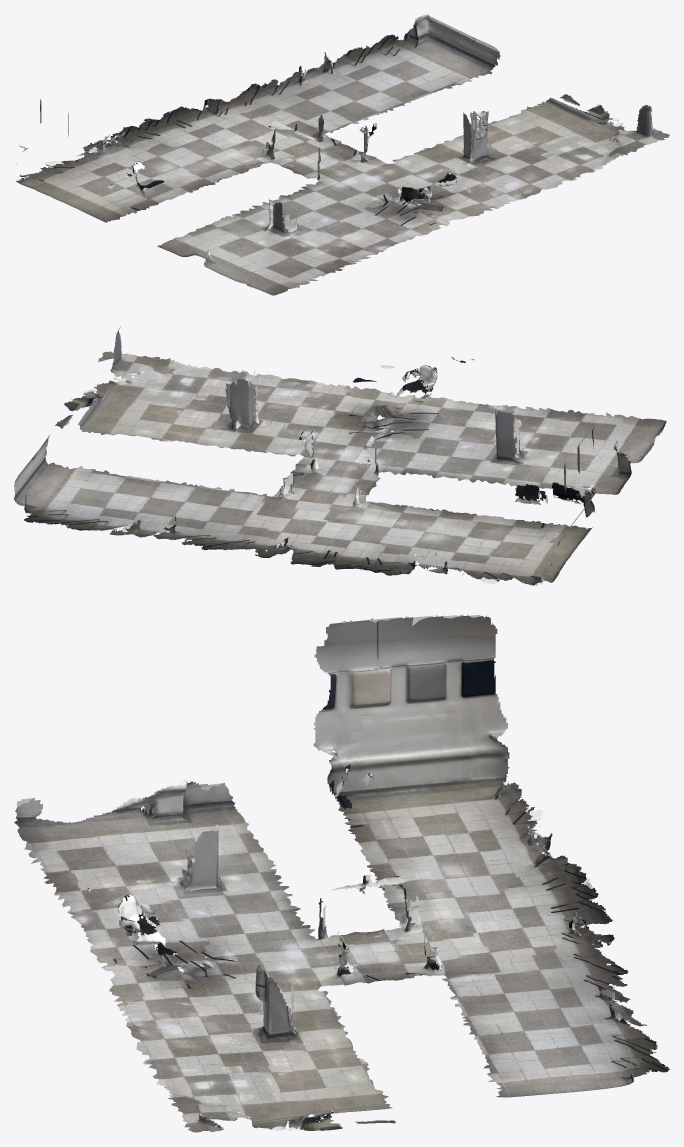
3 views of the same model, one above another, from view 1: azimuth 30°, elevation 25°; view 2: azimuth 150°, elevation 25°; view 3: azimuth 270°, elevation 25° (orthographic). The views are drawn at different scales.
Parts seen in each view (by area): view 1: 4, 16, 1, 17, 3, 13, 0, 11; view 2: 4, 16, 17, 1, 3, 13, 0, 11; view 3: 16, 4, 17, 1, 3, 13, 0, 11.
Part boxes in pixels (x1=…): 4: x1=40, y1=60, x2=569, y2=194; 16: x1=16, y1=80, x2=344, y2=222; 1: x1=249, y1=16, x2=500, y2=234; 17: x1=157, y1=174, x2=455, y2=295; 3: x1=265, y1=111, x2=541, y2=232; 13: x1=463, y1=94, x2=629, y2=196; 0: x1=17, y1=14, x2=653, y2=265; 11: x1=611, y1=105, x2=669, y2=157; 4: x1=79, y1=378, x2=594, y2=574; 16: x1=177, y1=430, x2=597, y2=585; 17: x1=354, y1=378, x2=666, y2=494; 1: x1=14, y1=411, x2=496, y2=537; 3: x1=238, y1=359, x2=496, y2=501; 13: x1=55, y1=358, x2=306, y2=431; 0: x1=17, y1=357, x2=628, y2=585; 11: x1=98, y1=326, x2=178, y2=381; 16: x1=313, y1=646, x2=628, y2=994; 4: x1=227, y1=615, x2=646, y2=1110; 17: x1=14, y1=780, x2=281, y2=986; 1: x1=170, y1=881, x2=669, y2=1097; 3: x1=87, y1=880, x2=441, y2=1052; 13: x1=129, y1=982, x2=395, y2=1130; 0: x1=16, y1=614, x2=666, y2=1130; 11: x1=171, y1=1094, x2=249, y2=1132.
Size of the model in its own units: 10.93 by 2.69 by 8.58.
8 materials, 7 textured.
